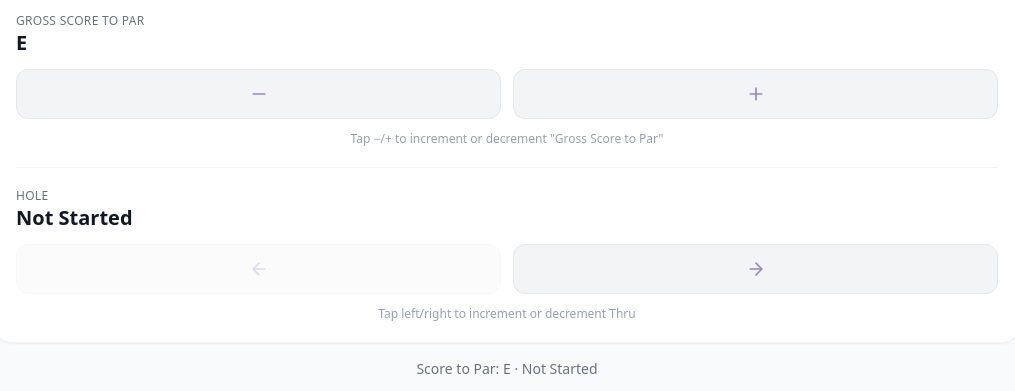
Scenario: QuickScore › increments score-to-par on + tap
The image size is (1015, 391).
Click the 2nd button: {"x": 756, "y": 94} [513,69,998,119]
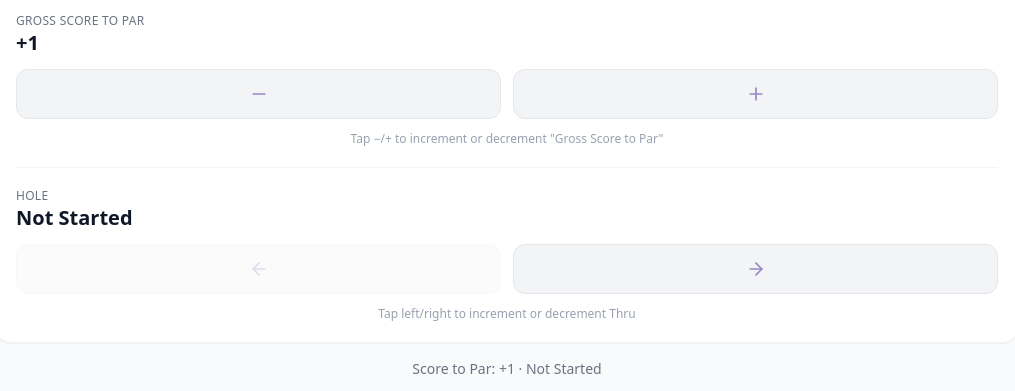
Now the text "+1" is shown, box [16,29,39,56]
